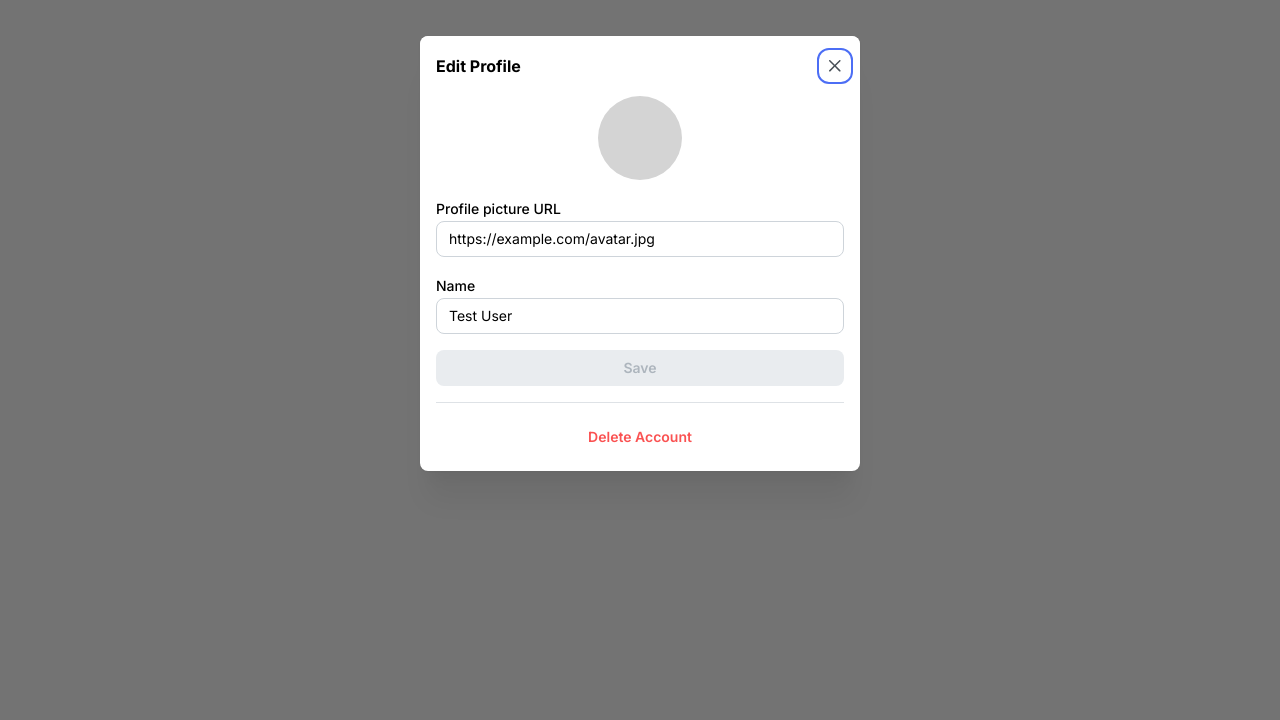
Scenario: editProfileModal › cancel hides confirmation and goes back to delete button
This screenshot has width=1280, height=720.
Click the button "Delete Account" at (640, 437), box [436, 419, 844, 455]
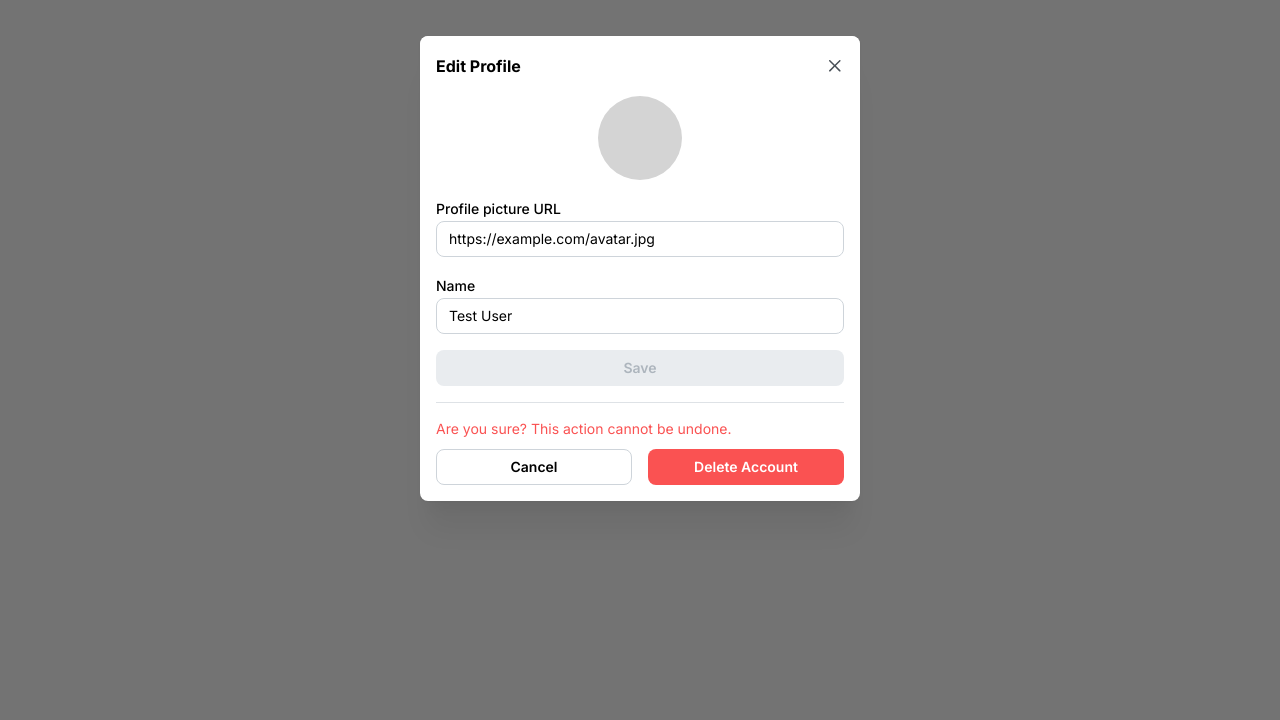
Now the text "Are you sure? This action cannot be undone." is shown, box [436, 420, 732, 437]
Click the button "Cancel" at (534, 467), box [436, 449, 632, 485]
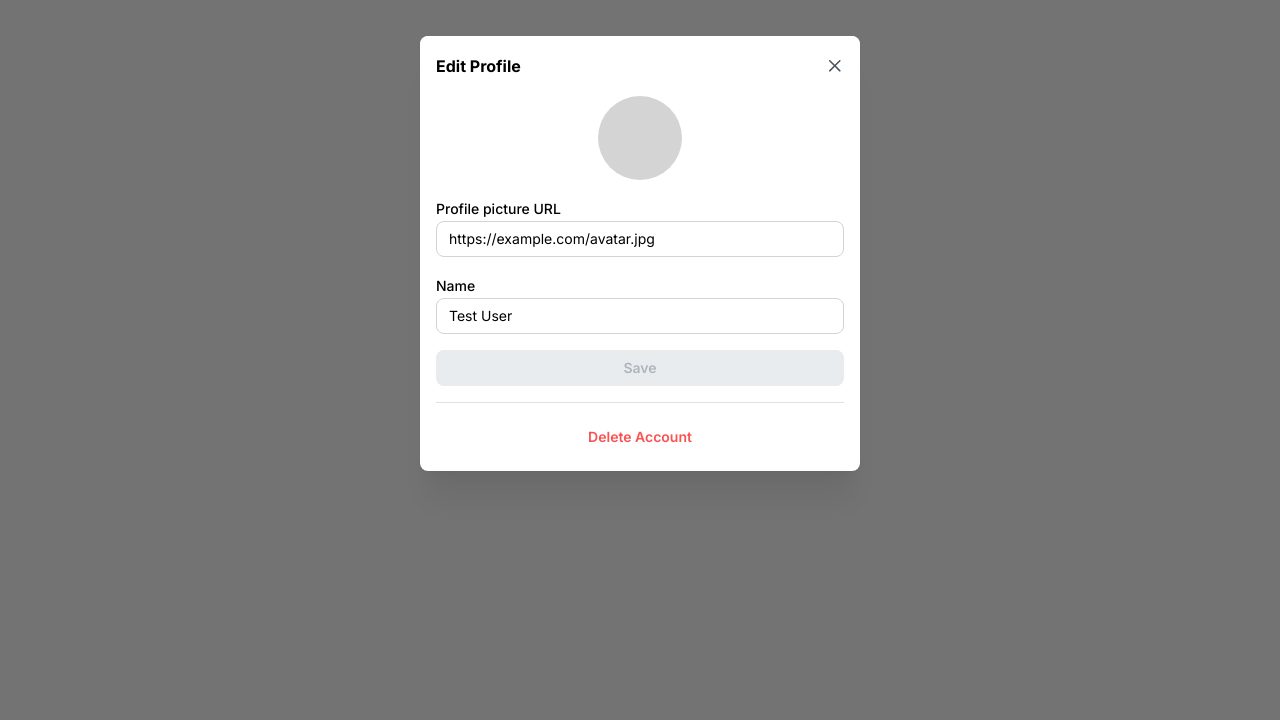
Expected: the button "Delete Account" is shown, [588, 428, 692, 445]
Now the text "This action cannot be undone" is gone
